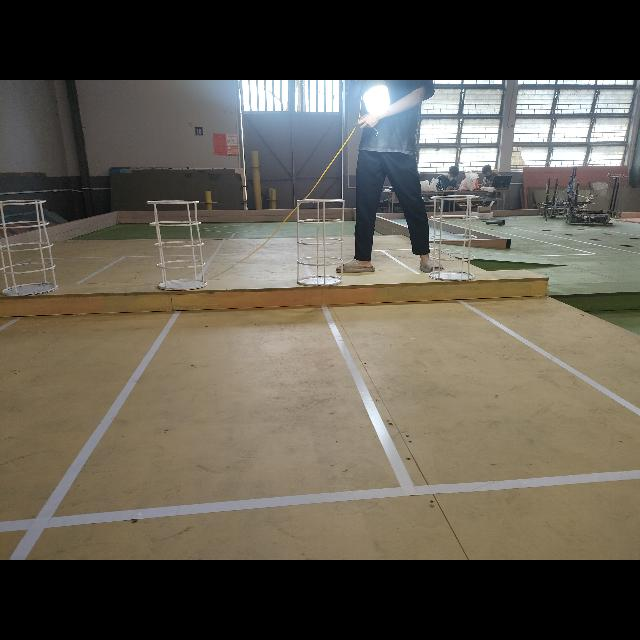S: (145, 198, 209, 294), (0, 197, 58, 299), (428, 194, 482, 286), (296, 196, 346, 288)
